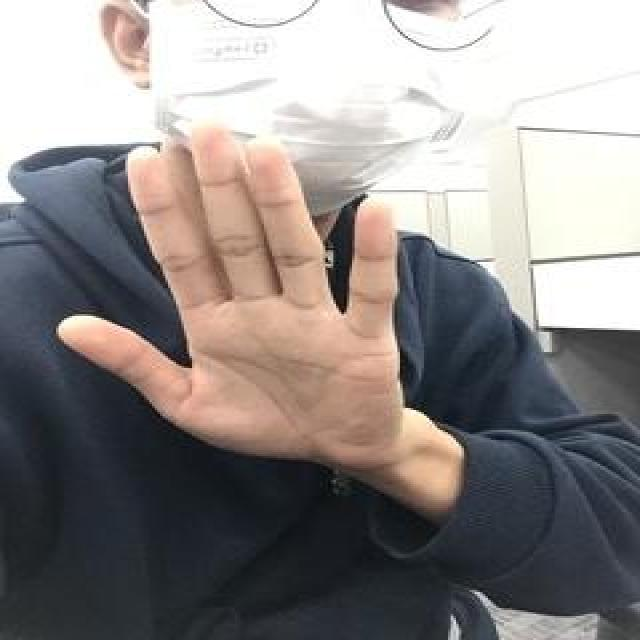hand: (69, 121, 408, 473)
